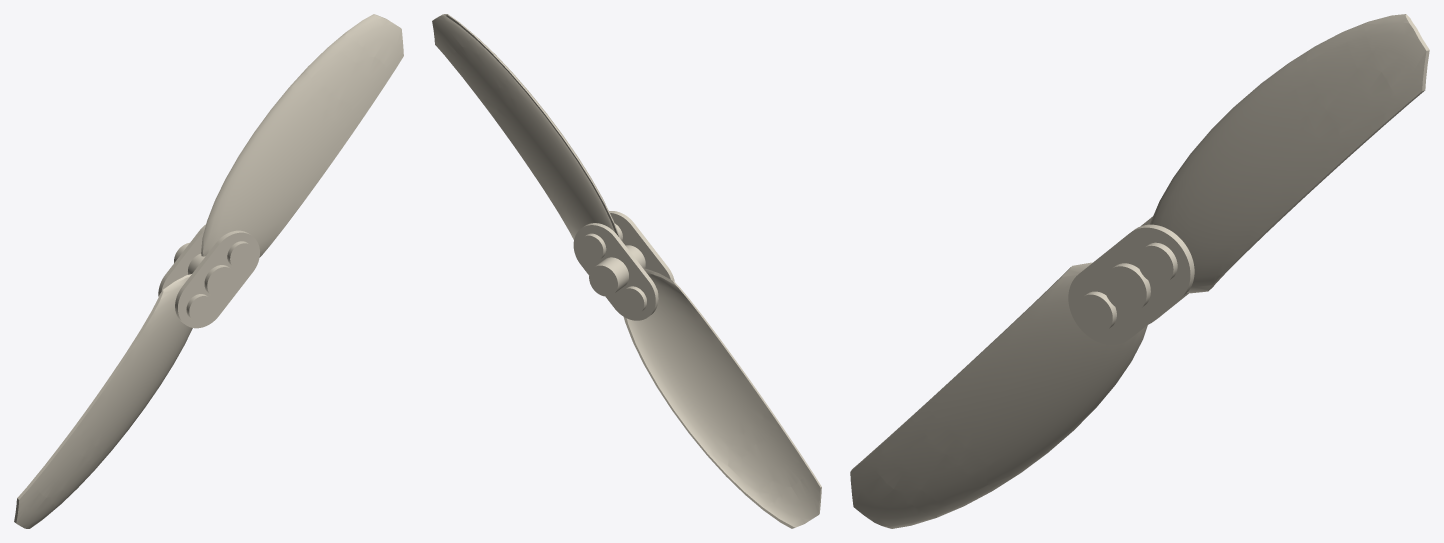
Rendered from propela.obj.
The picture shows the model from 3 angles, left to right: view 1: azimuth 30°, elevation 25°; view 2: azimuth 150°, elevation 25°; view 3: azimuth 330°, elevation 25°; orthographic projection. The views are drawn at different scales.
Parts seen in each view (by area): view 1: Root|djimini4pro_(Predeterminado)|Predeterminado|Sólido_importad, Root|djimini4pro_(Predeterminado)|Predeterminado|Cortar-Extruir3; view 2: Root|djimini4pro_(Predeterminado)|Predeterminado|Sólido_importad, Root|djimini4pro_(Predeterminado)|Predeterminado|Cortar-Extruir3; view 3: Root|djimini4pro_(Predeterminado)|Predeterminado|Sólido_importad, Root|djimini4pro_(Predeterminado)|Predeterminado|Cortar-Extruir3.
Part boxes in pixels (x1,y1,x2,y2): Root|djimini4pro_(Predeterminado)|Predeterminado|Sólido_importad: [14, 14, 403, 528]; Root|djimini4pro_(Predeterminado)|Predeterminado|Cortar-Extruir3: [174, 242, 235, 297]; Root|djimini4pro_(Predeterminado)|Predeterminado|Sólido_importad: [432, 14, 821, 528]; Root|djimini4pro_(Predeterminado)|Predeterminado|Cortar-Extruir3: [589, 245, 645, 296]; Root|djimini4pro_(Predeterminado)|Predeterminado|Sólido_importad: [850, 14, 1429, 528]; Root|djimini4pro_(Predeterminado)|Predeterminado|Cortar-Extruir3: [1103, 263, 1150, 312].
Bounding box in the file's own units: 0.0803 × 0.0853 × 0.012.
